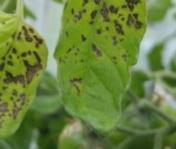Tomato leaf bacterial spot: (49, 0, 173, 142), (0, 10, 54, 149)
